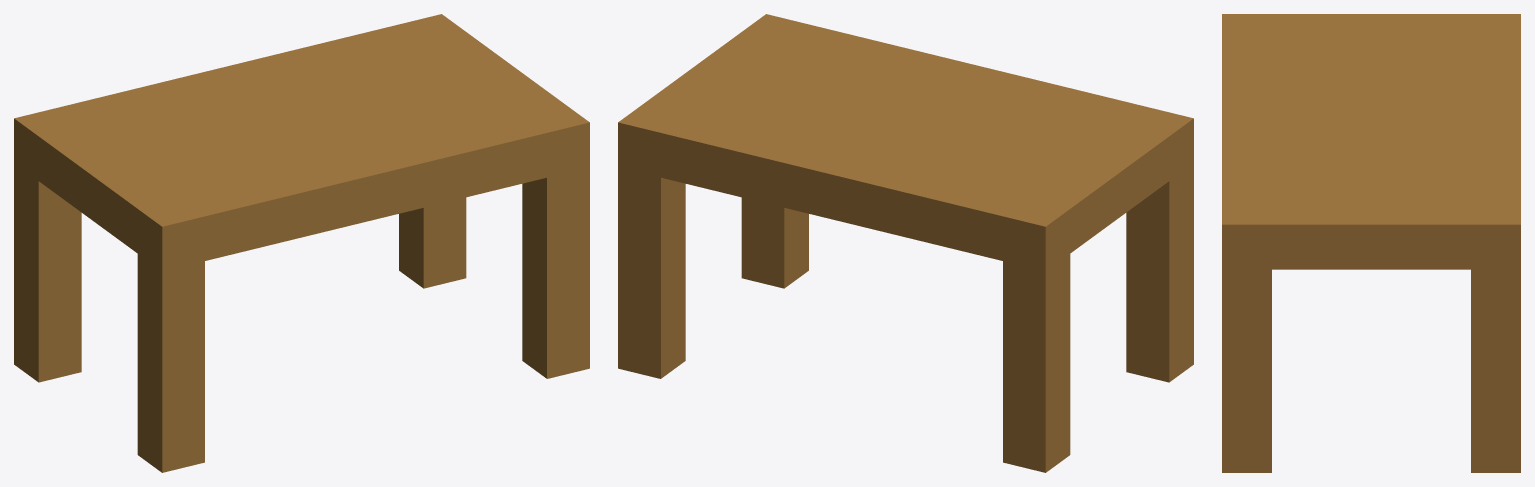
The model's file is OnlyTable.gltf.
3 views of the same model, side by side, from view 1: azimuth 30°, elevation 25°; view 2: azimuth 150°, elevation 25°; view 3: azimuth 270°, elevation 25° (orthographic).
Size of the model in its own units: 10 by 5.5 by 6.
